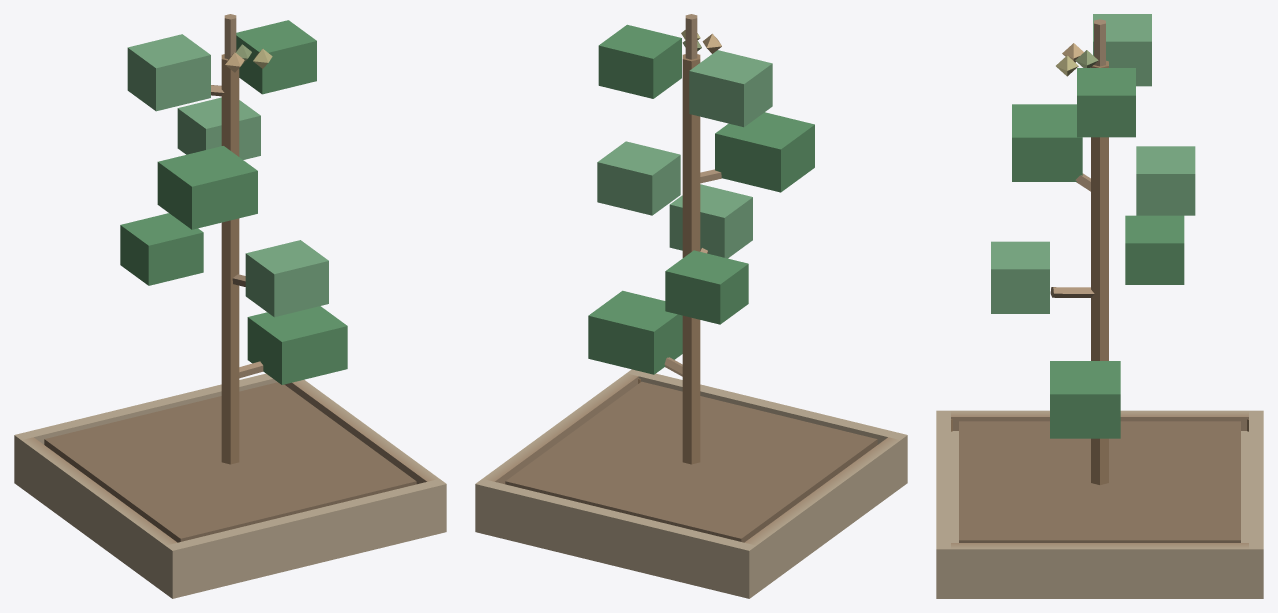
File: cafe_fruto_far.glb
3 views of the same model, side by side, from view 1: azimuth 30°, elevation 25°; view 2: azimuth 150°, elevation 25°; view 3: azimuth 270°, elevation 25° (orthographic). The views are drawn at different scales.
Parts seen in each view (by area): view 1: model; view 2: model; view 3: model.
Boxes of the visible parts, <box> form: model: <box>14,14,446,598</box>; model: <box>475,14,907,598</box>; model: <box>936,14,1263,598</box>.
Size of the model in its own units: 1 by 1.71 by 1.
